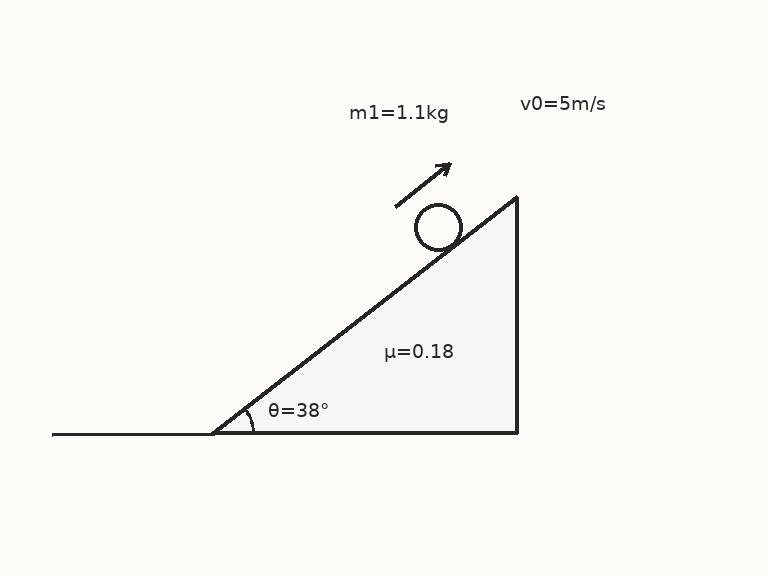ball: (412, 201, 464, 253)
ramp: (211, 194, 518, 435)
